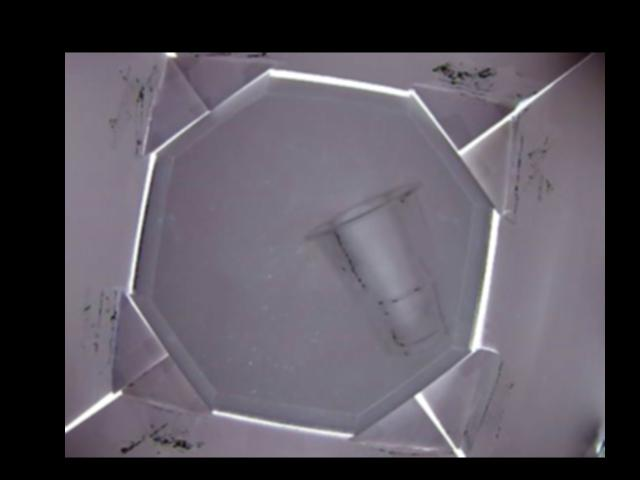Cup: (305, 179, 457, 356)
